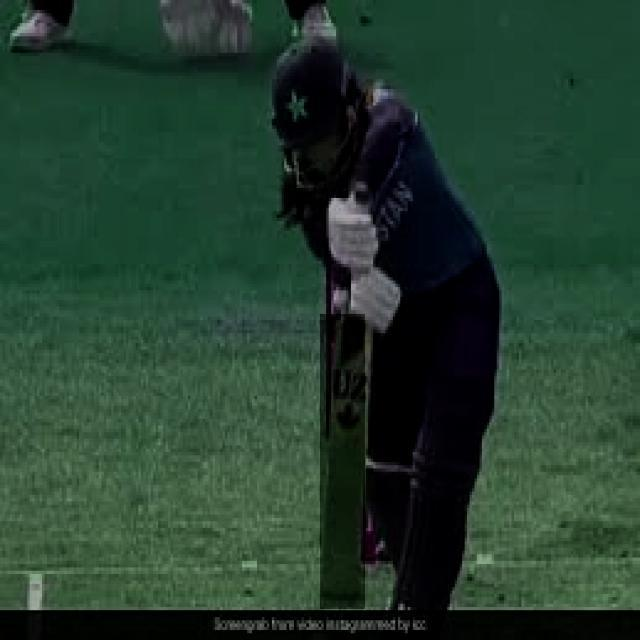bat: (319, 316, 371, 611)
toe: (314, 598, 367, 613)
